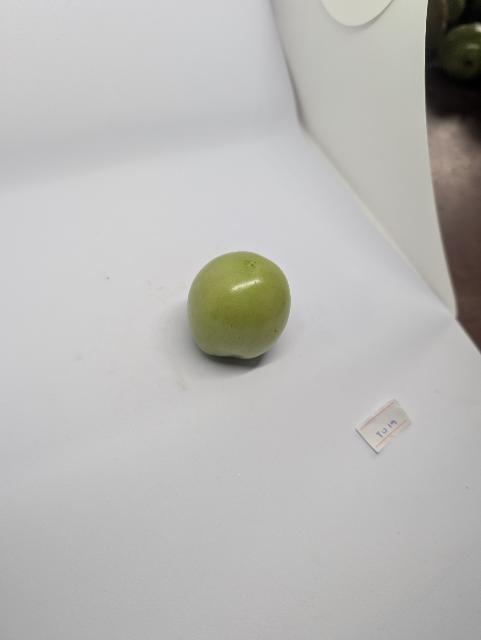green: (186, 250, 293, 362)
